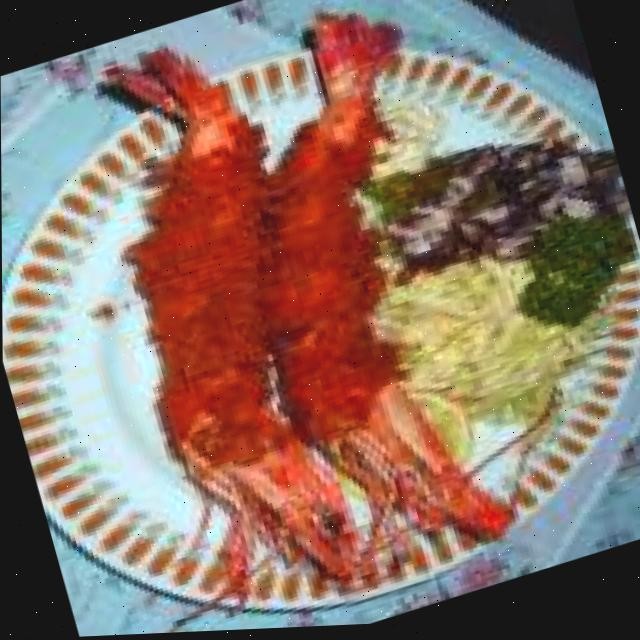炸货点心: (36, 0, 571, 639)
熟制海鲜: (36, 0, 571, 639)
